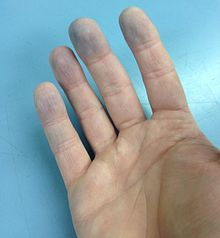finger: (67, 14, 148, 133), (117, 4, 194, 112), (47, 43, 114, 148), (30, 79, 94, 183)
